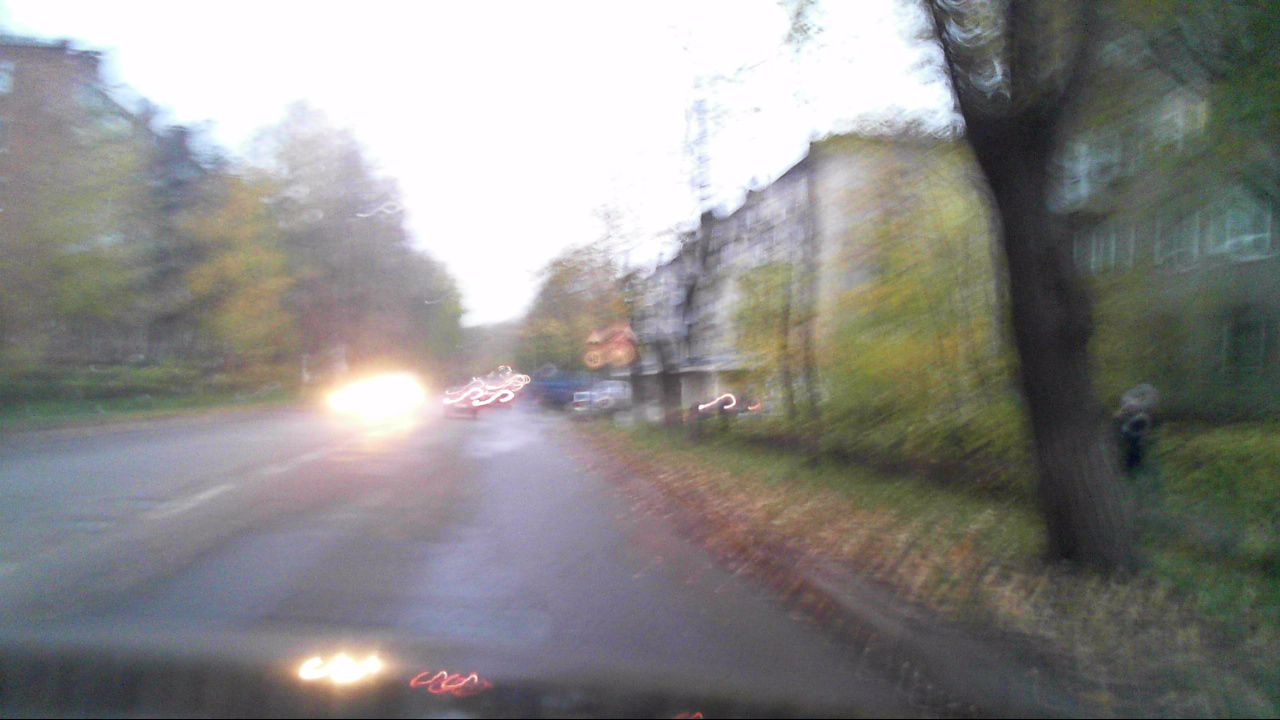speed_warning_40: (583, 350, 602, 369)
